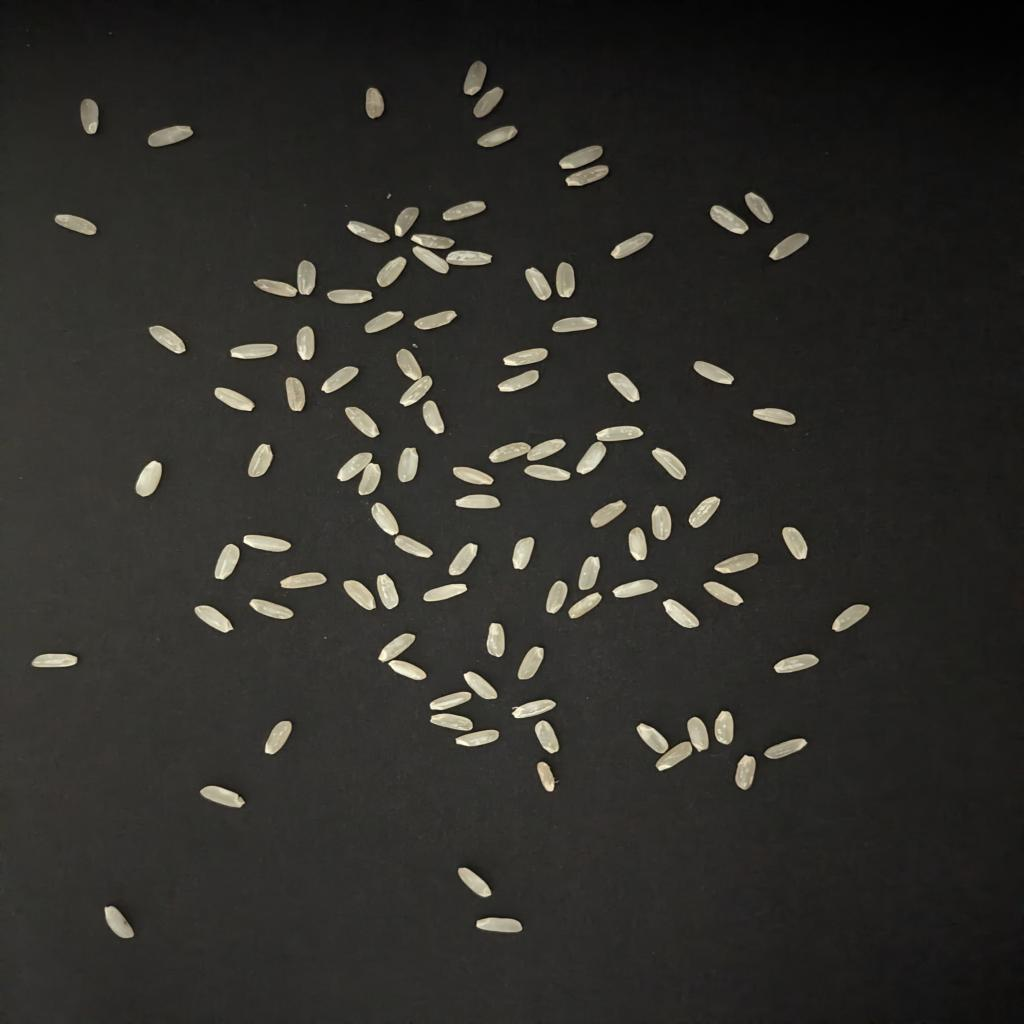good-rice: (770, 232, 810, 260), (831, 604, 871, 632), (610, 232, 653, 258), (709, 206, 748, 234), (344, 406, 378, 438), (653, 448, 687, 480), (322, 366, 360, 394), (663, 600, 701, 628), (378, 634, 416, 662), (655, 742, 693, 770), (338, 452, 373, 482), (458, 868, 493, 898), (149, 326, 186, 354), (413, 246, 450, 274), (559, 146, 602, 170), (346, 220, 389, 244), (213, 388, 256, 412), (575, 442, 607, 474), (690, 496, 722, 528), (370, 502, 400, 536), (146, 126, 192, 148), (693, 360, 735, 384), (565, 164, 610, 186), (442, 200, 487, 222), (714, 552, 759, 574), (200, 786, 245, 808), (194, 606, 232, 632), (264, 720, 293, 754), (591, 500, 626, 528), (463, 672, 498, 700), (213, 544, 240, 580), (607, 372, 639, 402), (400, 376, 432, 406), (703, 582, 743, 606), (447, 544, 477, 576), (394, 534, 434, 558), (344, 580, 376, 610), (637, 724, 669, 754), (53, 214, 96, 236), (250, 598, 293, 620), (764, 738, 807, 760), (136, 460, 162, 496), (104, 906, 133, 938), (527, 438, 565, 462), (567, 592, 602, 618), (253, 278, 298, 298), (775, 654, 820, 674), (376, 258, 408, 286), (517, 646, 543, 680), (477, 126, 517, 148), (498, 370, 538, 392), (474, 88, 503, 118), (463, 60, 487, 96), (397, 348, 424, 380), (242, 534, 290, 552), (376, 574, 400, 610), (432, 712, 474, 732), (746, 192, 772, 224), (525, 268, 551, 300), (503, 348, 549, 366), (511, 700, 557, 718), (357, 462, 381, 496), (248, 444, 272, 478), (783, 526, 807, 560), (535, 720, 559, 754), (365, 312, 402, 334), (525, 464, 570, 482), (613, 580, 658, 598), (477, 916, 522, 934), (490, 442, 530, 462), (416, 310, 455, 330), (445, 250, 493, 266), (597, 426, 645, 442), (229, 344, 277, 360), (511, 538, 535, 570), (280, 572, 328, 588), (296, 260, 317, 296), (754, 408, 796, 426), (424, 584, 466, 602), (429, 692, 471, 710), (389, 660, 426, 680), (551, 316, 597, 332), (394, 206, 418, 236), (410, 234, 455, 250), (453, 466, 493, 484), (424, 400, 445, 434), (285, 378, 306, 412), (397, 448, 418, 482), (578, 556, 599, 590), (546, 580, 567, 614), (714, 710, 735, 744), (735, 756, 756, 790), (687, 718, 709, 750), (455, 730, 498, 746), (80, 98, 99, 134), (557, 262, 575, 298), (487, 622, 506, 656), (455, 494, 501, 508), (328, 290, 373, 304), (32, 654, 77, 668), (296, 326, 314, 360), (653, 506, 671, 540), (629, 528, 647, 560), (365, 88, 384, 118), (538, 762, 557, 792)
